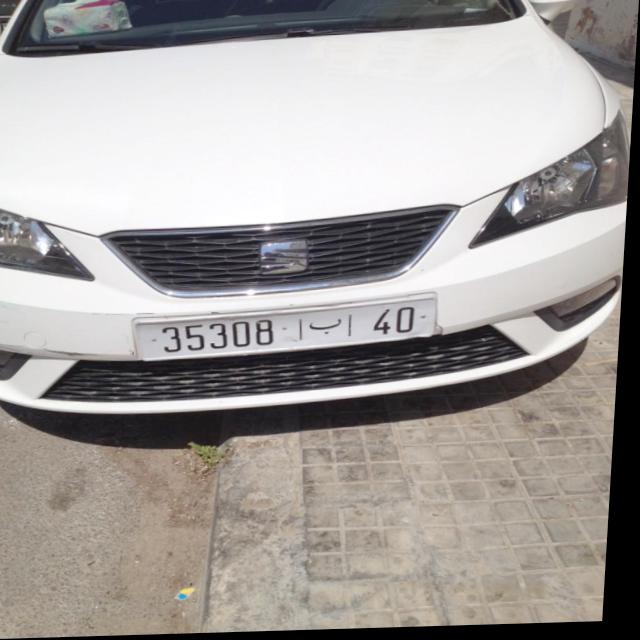License-Plate: (139, 301, 440, 362)
